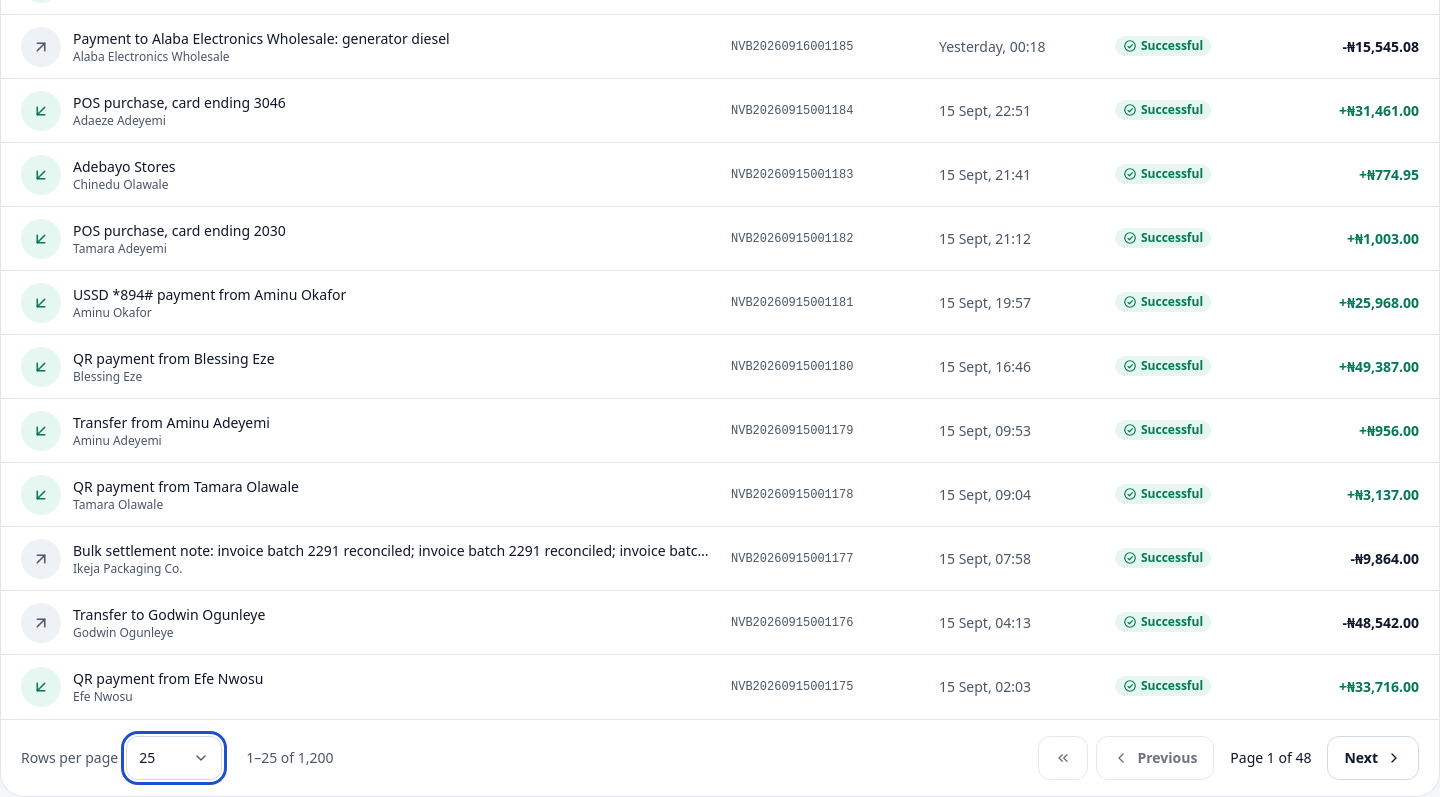
Scenario: TransactionsSection — changing page › shows the same range in the footer as it announces when transactions arrive mid-walk
(page scrolled)
Press Arrowdown Arrowdown Arrowdown {ArrowD
(page scrolled)
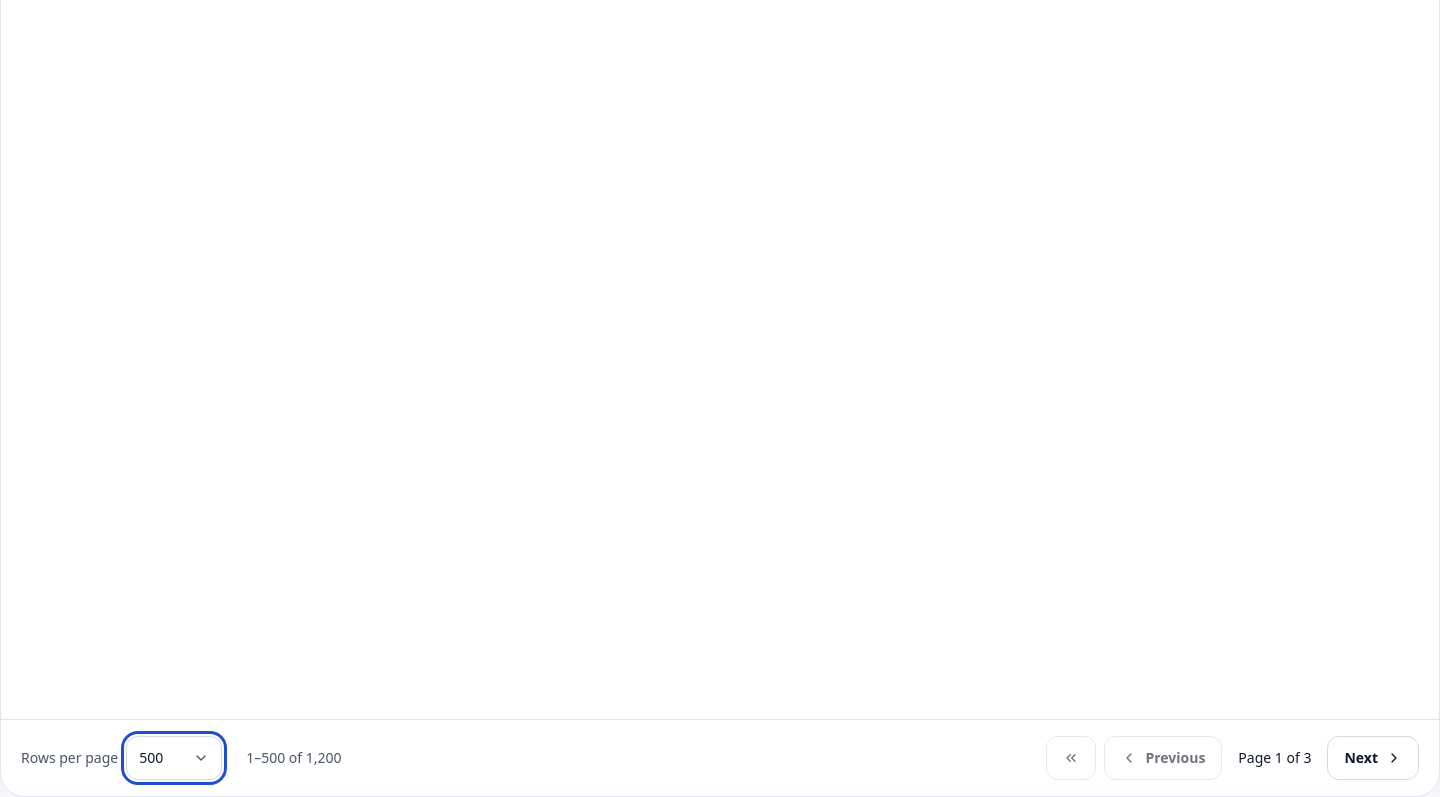
Expected: the text "1–500 of 1,200" is shown, [246,748,342,768]
Click the button with aria-label "Next page". click: click(1373, 758)
box: [1328,736,1419,780]
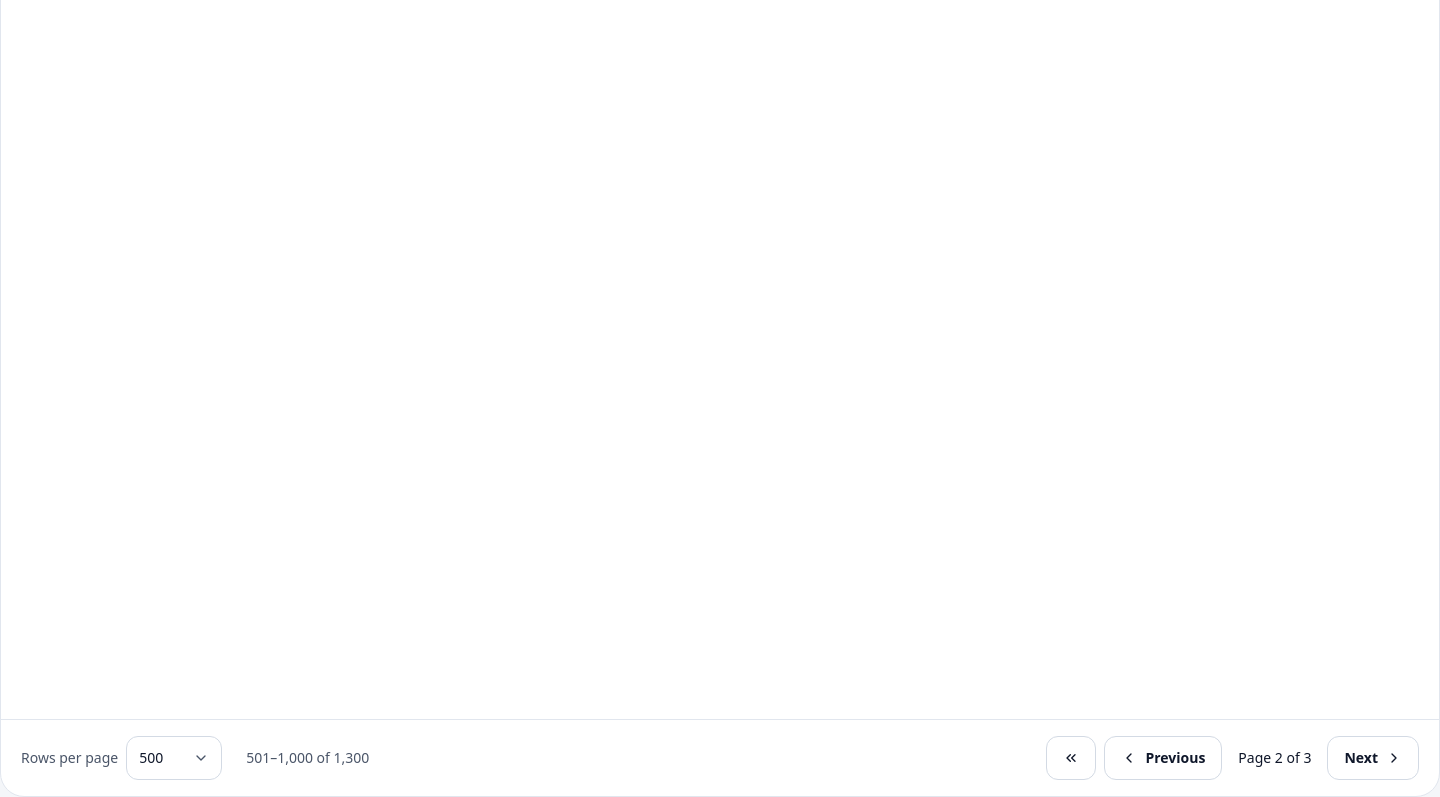
Expected: the text "501–1,000 of 1,300" is shown, [246,748,369,768]
Click the button with aria-label "Next page". click: click(1373, 758)
box: [1328,736,1419,780]
(page scrolled)
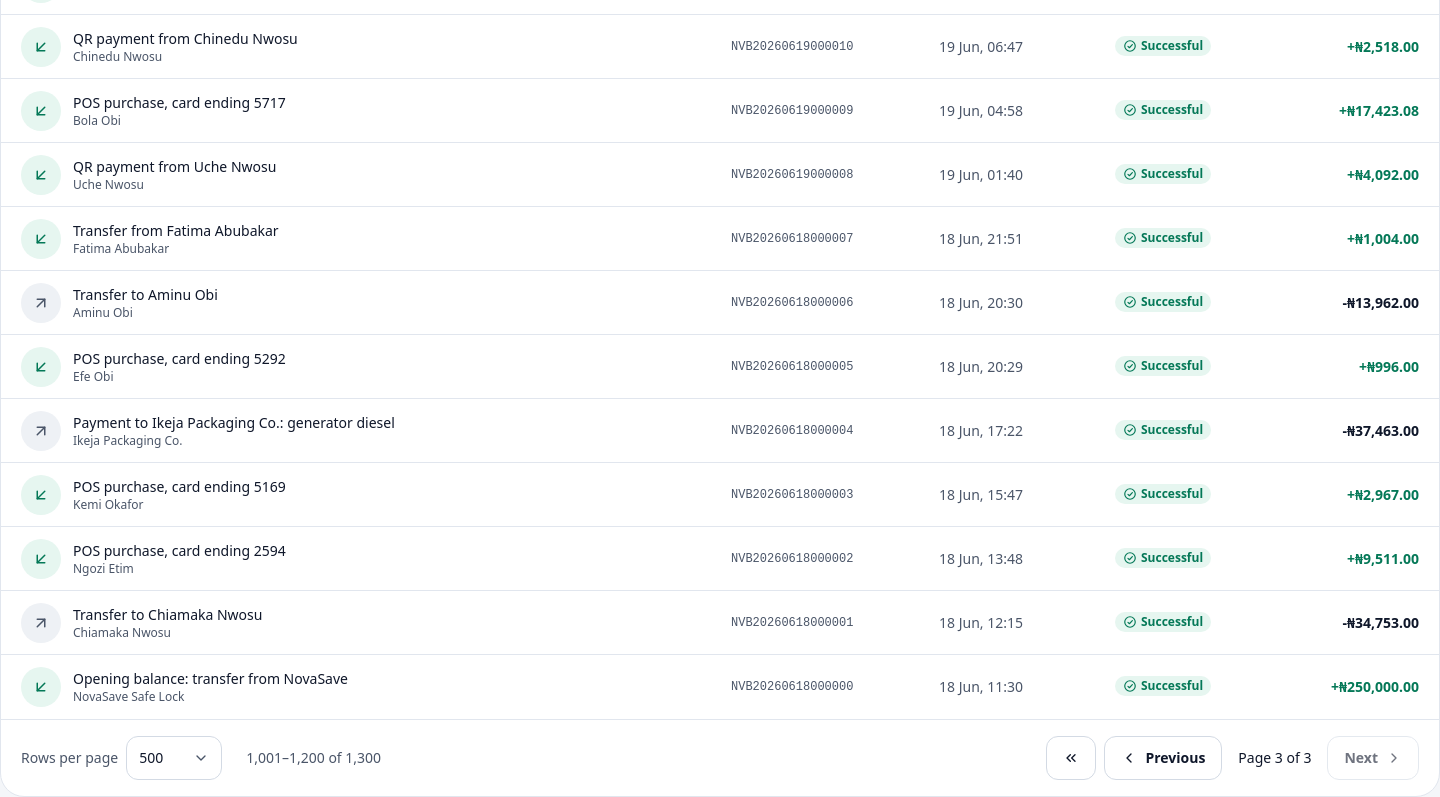
Expected: the text "1,001–1,200 of 1,300" is shown, [246,748,381,768]
Expected: the text "Page 3 of 3" is shown, [1238,748,1312,767]
